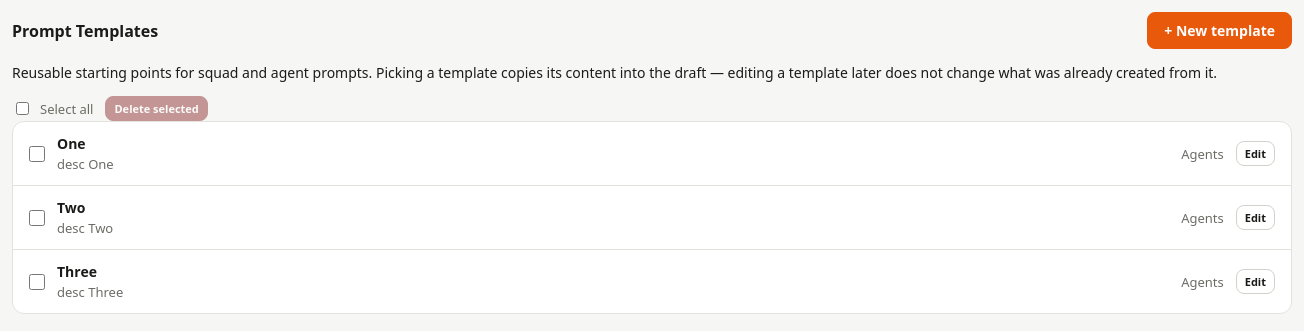
Scenario: selection + bulk delete › unselect-all clears the selection
This screenshot has width=1304, height=331.
Click the checkbox named "Select all templates": (22, 108) [16,102,29,115]
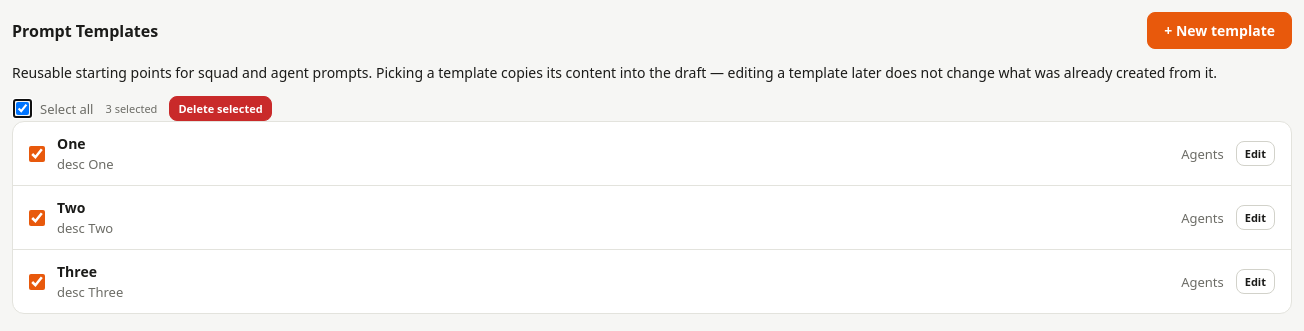
Click the checkbox named "Select all templates": (22, 108) [16,102,29,115]
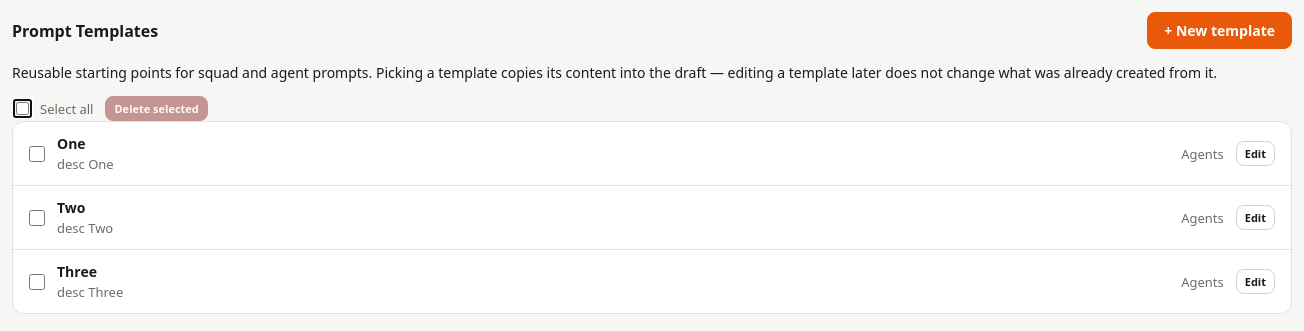
Expected: the checkbox named "Select template One" is not checked, [29,146,45,162]
Expected: the button with aria-label "Delete 0 selected templates" is disabled, [106,96,208,121]
